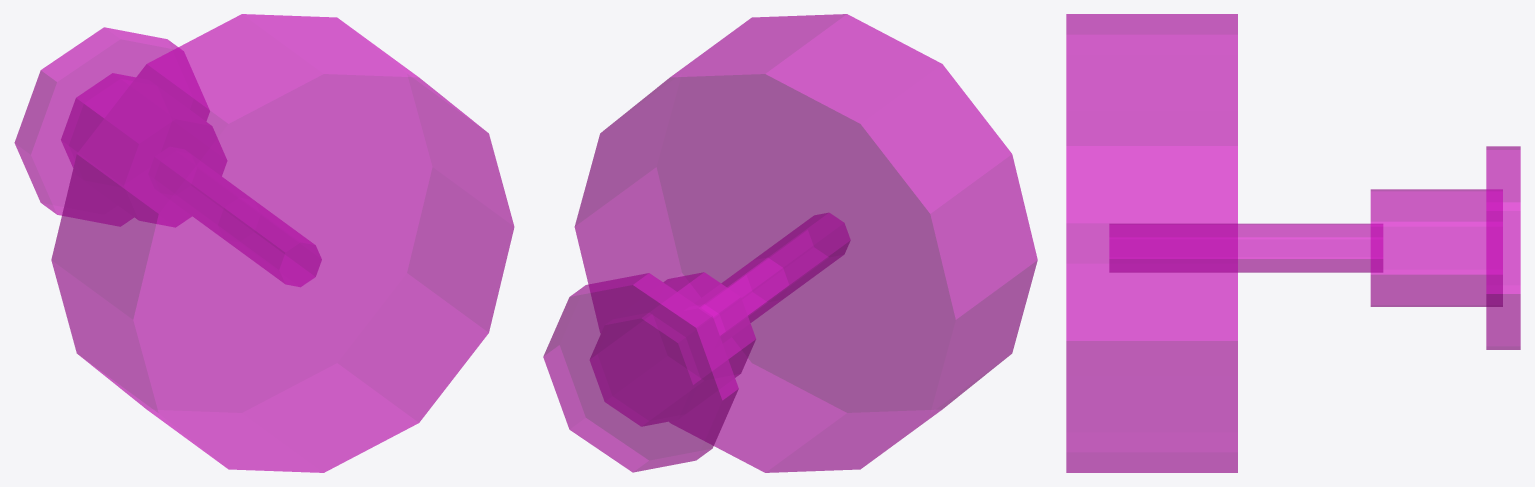
File: SM_Prop_Crane_01_Wheel_01_Collision.fbx
The picture shows the model from 3 angles, left to right: view 1: azimuth 30°, elevation 25°; view 2: azimuth 150°, elevation 25°; view 3: azimuth 270°, elevation 25°; orthographic projection. The views are drawn at different scales.
Visible parts, largest first — view 1: SM_Prop_Crane_01_Wheel_01_Collision; view 2: SM_Prop_Crane_01_Wheel_01_Collision; view 3: SM_Prop_Crane_01_Wheel_01_Collision.
Part boxes in pixels (<box>): SM_Prop_Crane_01_Wheel_01_Collision: <box>14,14,514,472</box>; SM_Prop_Crane_01_Wheel_01_Collision: <box>543,14,1037,472</box>; SM_Prop_Crane_01_Wheel_01_Collision: <box>1066,14,1520,472</box>.
Bounding box in the file's own units: 378 × 378 × 373.
